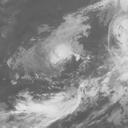cyclone: (41, 34, 81, 71)
